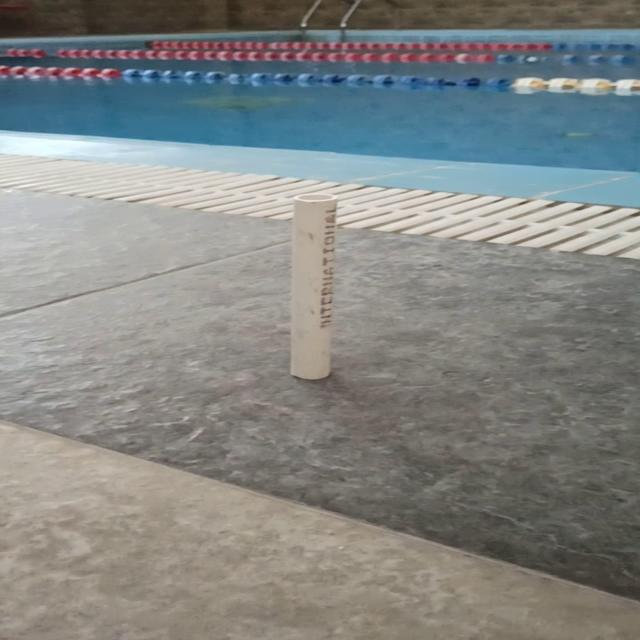Cube: (287, 192, 338, 380)
